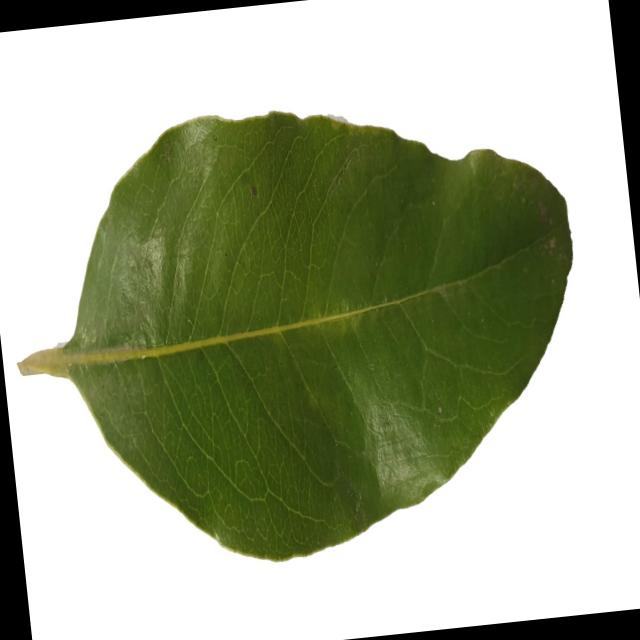Medicinal-Sandalwood: (0, 72, 601, 591)
